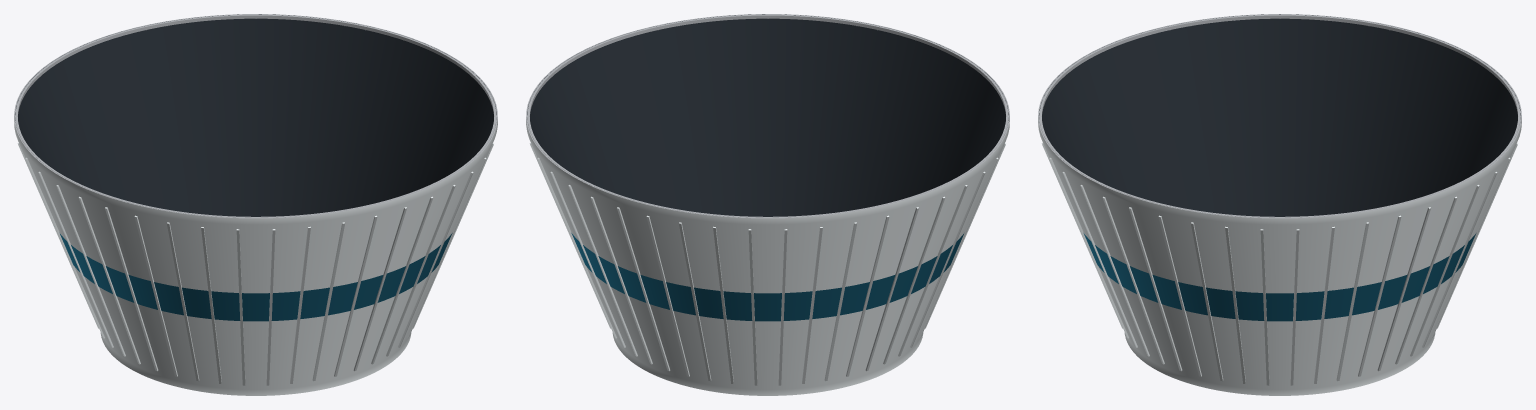
File: adapter_d54_to_d84.glb
3 views of the same model, side by side, from view 1: azimuth 30°, elevation 25°; view 2: azimuth 150°, elevation 25°; view 3: azimuth 270°, elevation 25° (orthographic).
Visible parts, largest first — view 1: adapter_d54_to_d84_mesh; view 2: adapter_d54_to_d84_mesh; view 3: adapter_d54_to_d84_mesh.
Boxes of the visible parts, x1,y1,x2,y2 form: adapter_d54_to_d84_mesh: (14, 14, 497, 395); adapter_d54_to_d84_mesh: (526, 14, 1009, 395); adapter_d54_to_d84_mesh: (1038, 14, 1521, 395).
Size of the model in its own units: 8.4 by 4.1 by 8.4.
